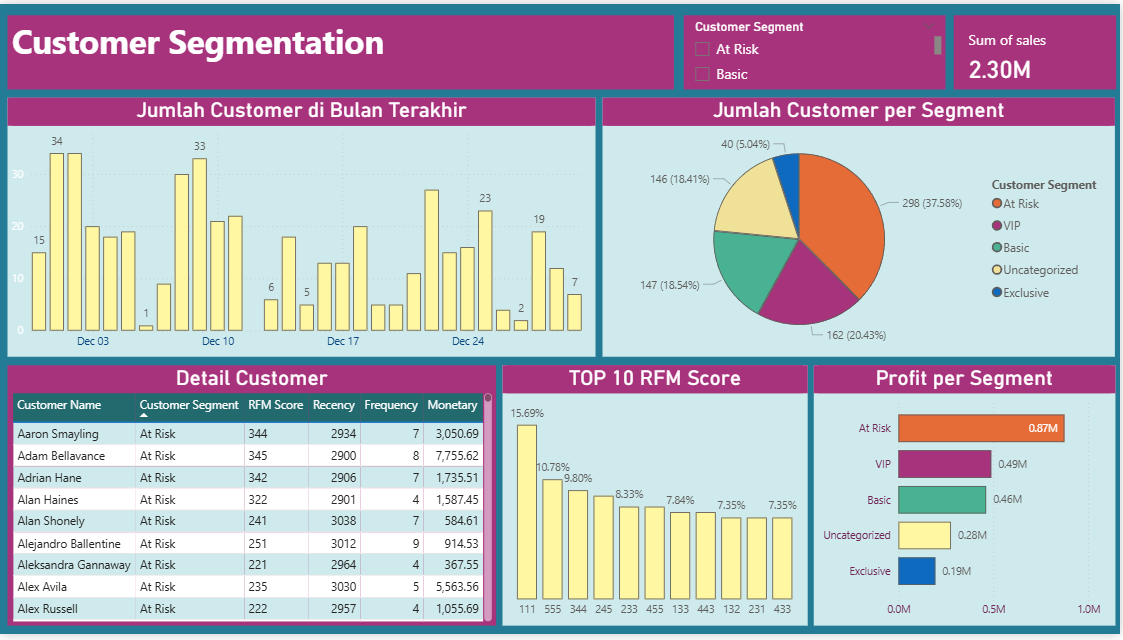

What the dashboard file says about the page in this screenshot:
{"tool":"powerbi","page":{"name":"Page 1","canvas":[1280,720],"ordinal":0},"visuals":[{"type":"clusteredColumnChart","title":"Jumlah Customer di Bulan Terakhir","fields":{"Y":["segmentation - superstore.customer_name"],"Category":["segmentation - superstore.order_date"]},"box":[8.2,107,672.4,296.4],"z":0},{"type":"pieChart","title":"Jumlah Customer per Segment","fields":{"Category":["RFMTable.Customer Segment"],"Y":["RFMTable.customer_name"]},"box":[688.9,107,585.9,296.4],"z":1000},{"type":"tableEx","title":"Detail Customer","fields":{"Values":["RFMTable.customer_name","RFMTable.Customer Segment","RFMTable.RFM Score","RFMTable.Recency","RFMTable.Frequency","RFMTable.Monetary"]},"box":[8.2,413,558.5,297.8],"z":2000},{"type":"clusteredBarChart","title":"Profit per Segment","fields":{"Category":["RFMTable.Customer Segment"],"Y":["segmentation - superstore.sales"]},"box":[930.4,413,344.4,297.8],"z":2001},{"type":"clusteredColumnChart","title":"TOP 10 RFM Score","fields":{"Category":["RFMTable.RFM Score"],"Y":["RFMTable.customer_name"]},"box":[575,413,348.5,297.8],"z":2002},{"type":"textbox","box":[8.2,12.3,761.6,85.1],"z":2003},{"type":"slicer","fields":{"Values":["RFMTable.Customer Segment"]},"box":[780.8,12.3,299.1,85.1],"z":2004},{"type":"cardVisual","fields":{"Data":["segmentation - superstore.sales"]},"box":[1089.5,12.3,185.2,85.1],"z":2005}]}

Visuals, with their boxes in screenshot pixels (x1, y1, x2, y2), scaled from the page's 1280x720 canvas onto the 1123x640 screenshot:
"Jumlah Customer di Bulan Terakhir" clusteredColumnChart: region(7, 95, 597, 359)
"Jumlah Customer per Segment" pieChart: region(604, 95, 1118, 359)
"Detail Customer" tableEx: region(7, 367, 497, 632)
"Profit per Segment" clusteredBarChart: region(816, 367, 1118, 632)
"TOP 10 RFM Score" clusteredColumnChart: region(504, 367, 810, 632)
textbox: region(7, 11, 675, 87)
slicer - RFMTable.Customer Segment: region(685, 11, 947, 87)
cardVisual - segmentation - superstore.sales: region(956, 11, 1118, 87)
